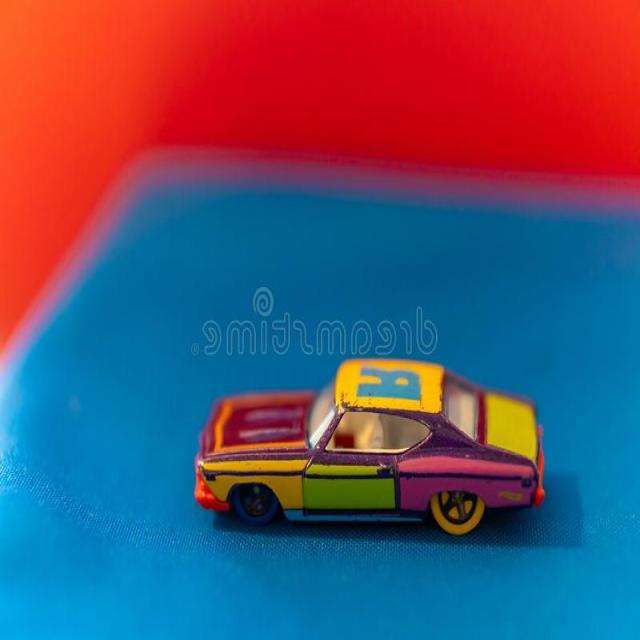Car: (194, 356, 546, 536)
